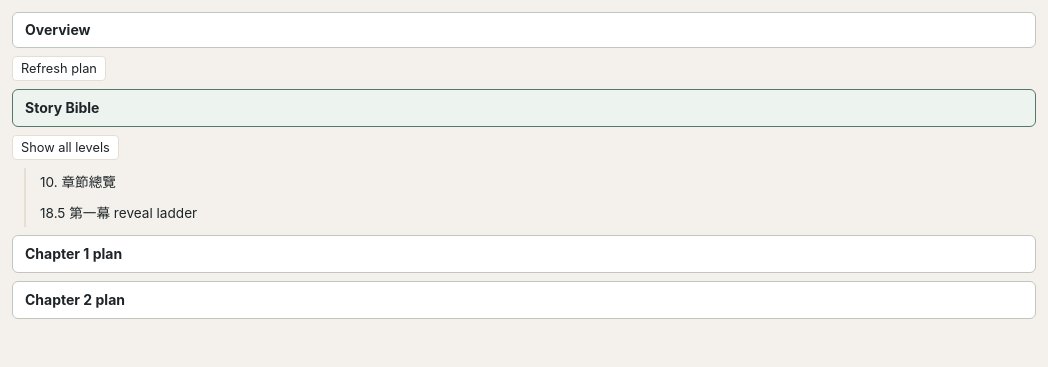
Scenario: PlanSidebar › Show all levels reveals H3+
Expected: the button "深層小節" is not shown
What coordinates should you click on to do the following:
click the button "Show all levels"
I would click on:
 (65, 148)
Its box is [12,135,119,160].
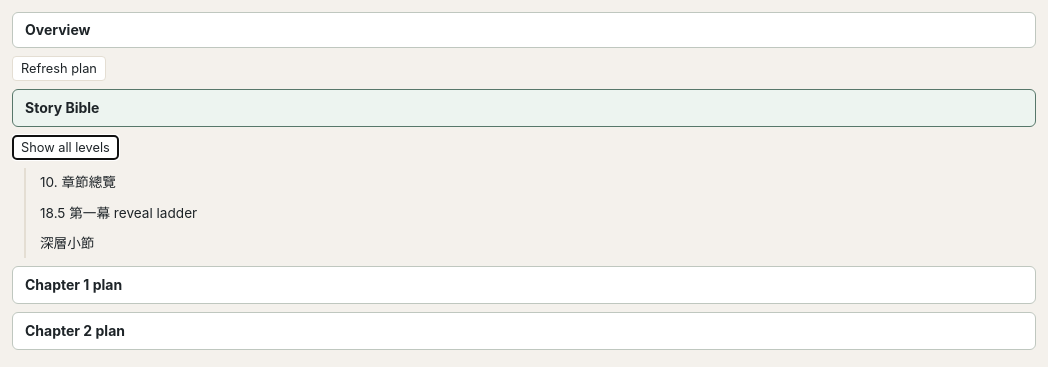
Now the button "深層小節" is shown, box [34,229,1036,258]
